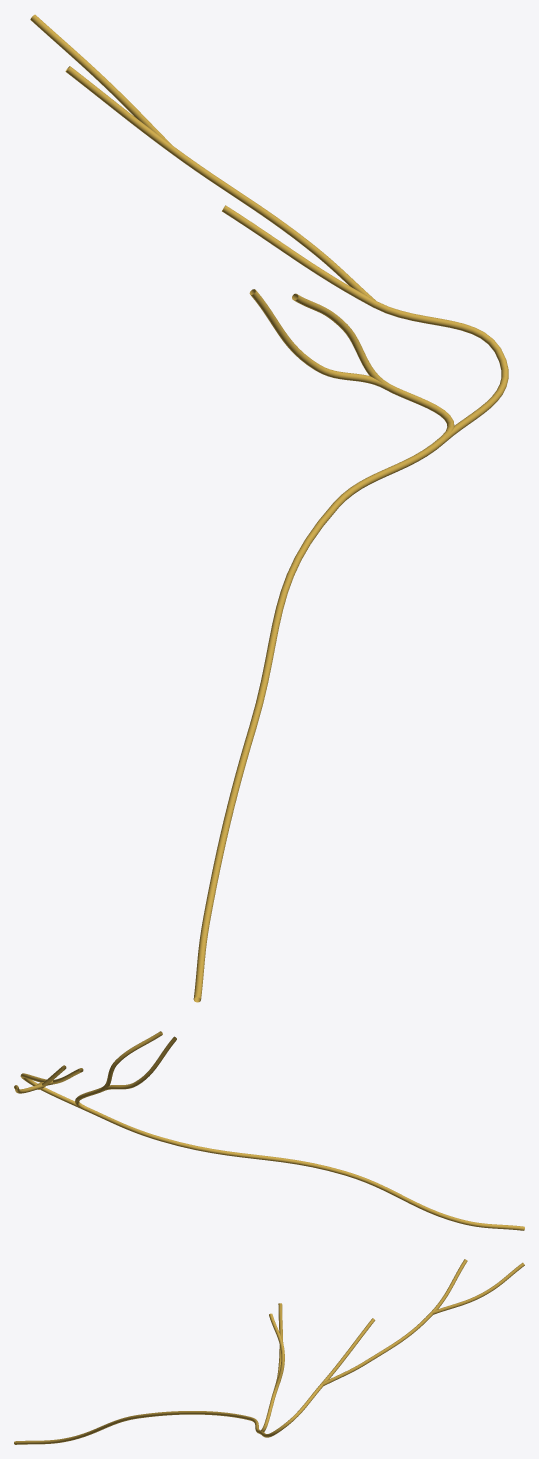
3 views of the same model, one above another, from view 1: azimuth 30°, elevation 25°; view 2: azimuth 150°, elevation 25°; view 3: azimuth 270°, elevation 25° (orthographic). The views are drawn at different scales.
Parts seen in each view (by area): view 1: 左侧肩胛上神经; view 2: 左侧肩胛上神经; view 3: 左侧肩胛上神经.
Boxes of the visible parts, x1,y1,x2,y2 form: 左侧肩胛上神经: (30, 14, 508, 1002); 左侧肩胛上神经: (14, 1031, 524, 1230); 左侧肩胛上神经: (14, 1259, 524, 1444).
Bounding box in the file's own units: 0.1318 × 0.1163 × 0.2024.
